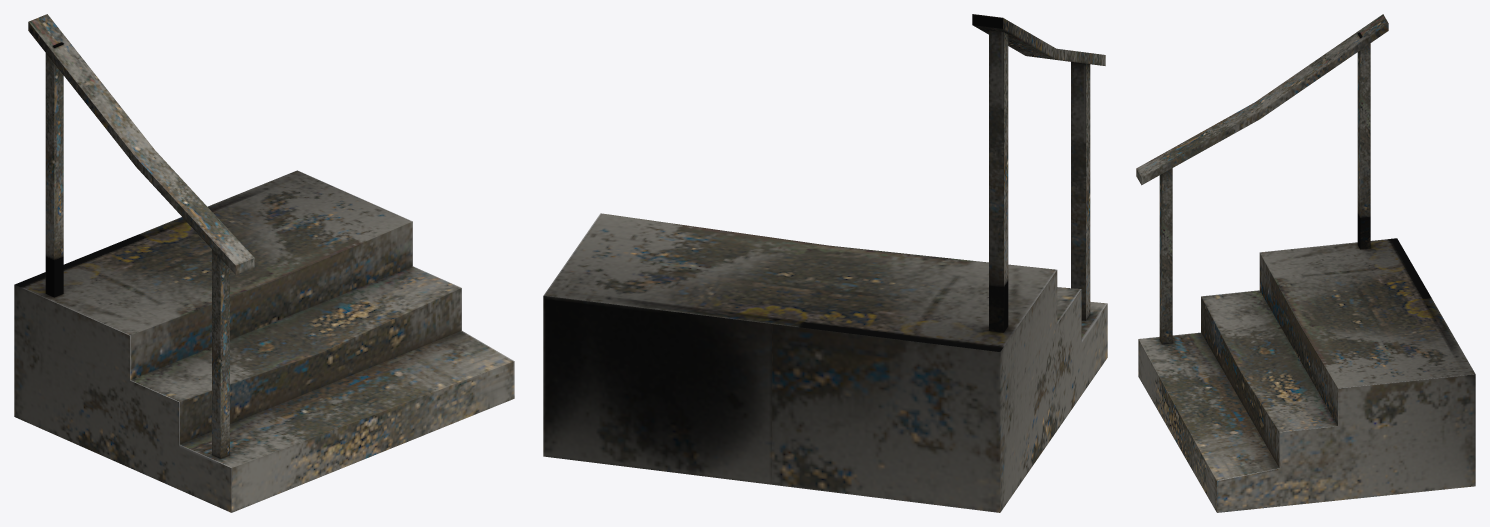
The model's file is FlatShack45.gltf.
3 renders of one model, left to right at view 1: azimuth 30°, elevation 25°; view 2: azimuth 150°, elevation 25°; view 3: azimuth 270°, elevation 25°, orthographic. The views are drawn at different scales.
Visible parts, largest first — view 1: prop_Oak_leaves_geo_002_OakLeaves_01_Tex_0; view 2: prop_Oak_leaves_geo_002_OakLeaves_01_Tex_0; view 3: prop_Oak_leaves_geo_002_OakLeaves_01_Tex_0.
Part boxes in pixels (left/top/right/bottom): prop_Oak_leaves_geo_002_OakLeaves_01_Tex_0: left=14, top=14, right=514, bottom=512; prop_Oak_leaves_geo_002_OakLeaves_01_Tex_0: left=543, top=14, right=1107, bottom=512; prop_Oak_leaves_geo_002_OakLeaves_01_Tex_0: left=1136, top=14, right=1475, bottom=512.
Size of the model in its own units: 1.37 by 1.33 by 1.21.
Materials: 1 (1 with a texture image).
